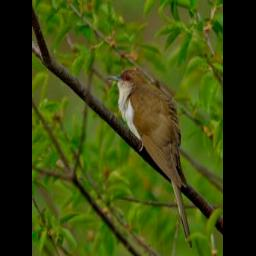Cuckoo: (107, 65, 193, 251)
